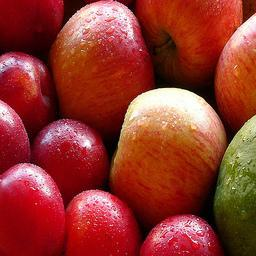apple: (110, 87, 228, 227), (46, 1, 155, 140), (136, 1, 243, 90), (31, 118, 108, 198), (1, 162, 67, 254), (60, 188, 141, 255), (213, 12, 256, 133), (1, 52, 55, 134), (1, 1, 63, 59), (139, 213, 223, 255)
